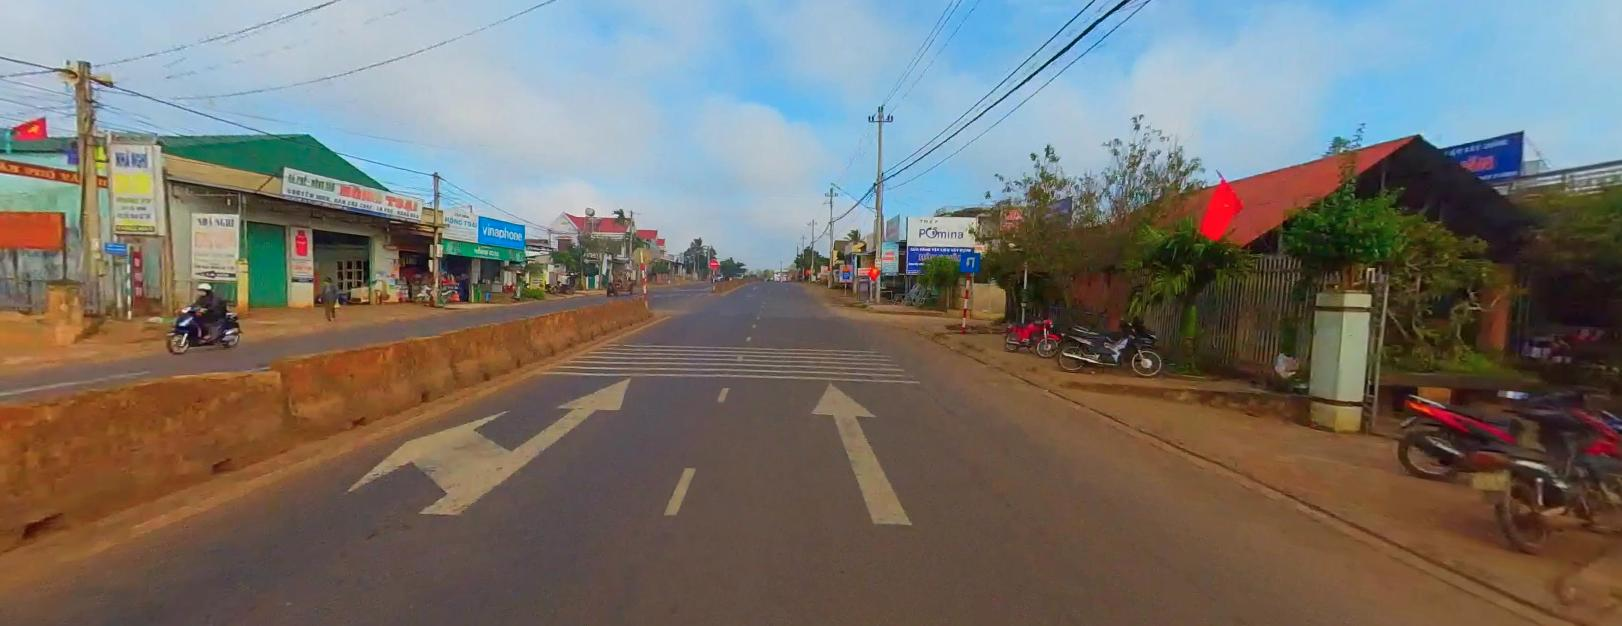Cam nguoc chieu: (708, 257, 718, 268), (710, 258, 717, 267)
